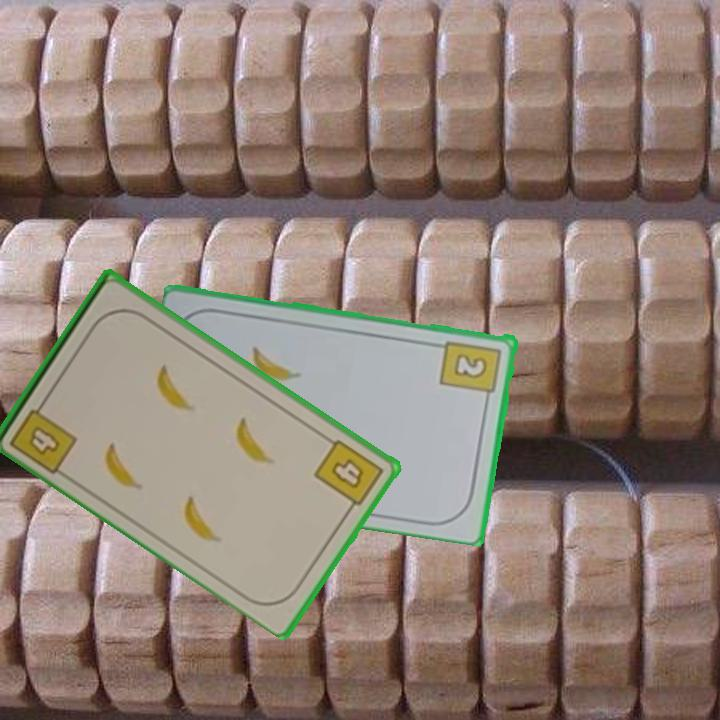2b: (438, 337, 505, 405)
4b: (310, 435, 387, 516), (6, 394, 81, 477)
